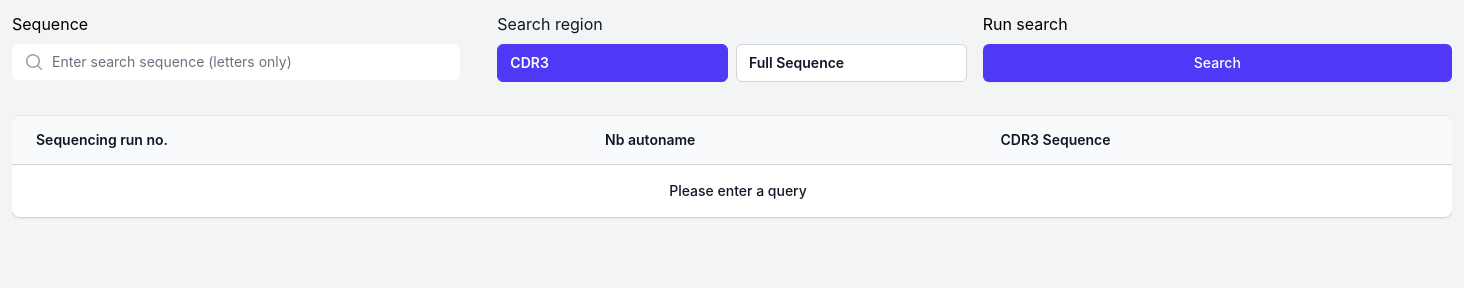
SearchSequencing › renders results table with sequencing run links
Type "AARDVARK" into the search field with placeholder "Enter search sequence (letters only)" at (236,62), box [12, 44, 460, 80]
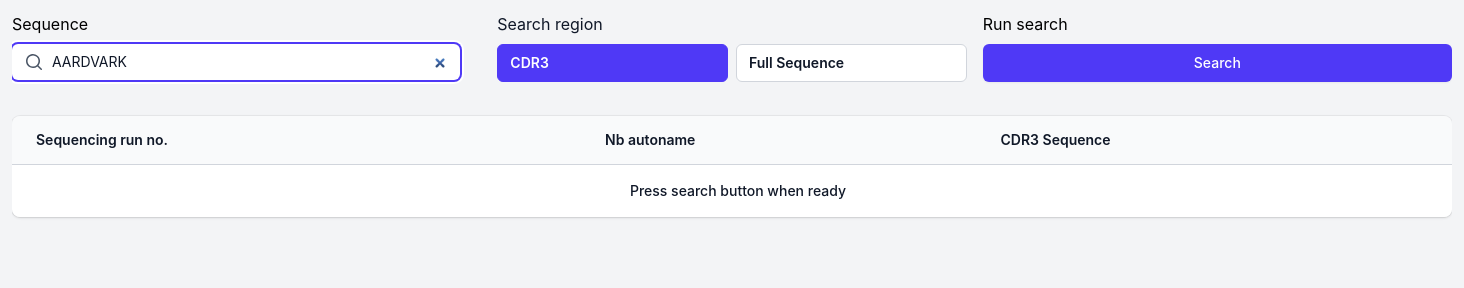
Click the button "Search" at (1217,63), box [983, 44, 1452, 82]
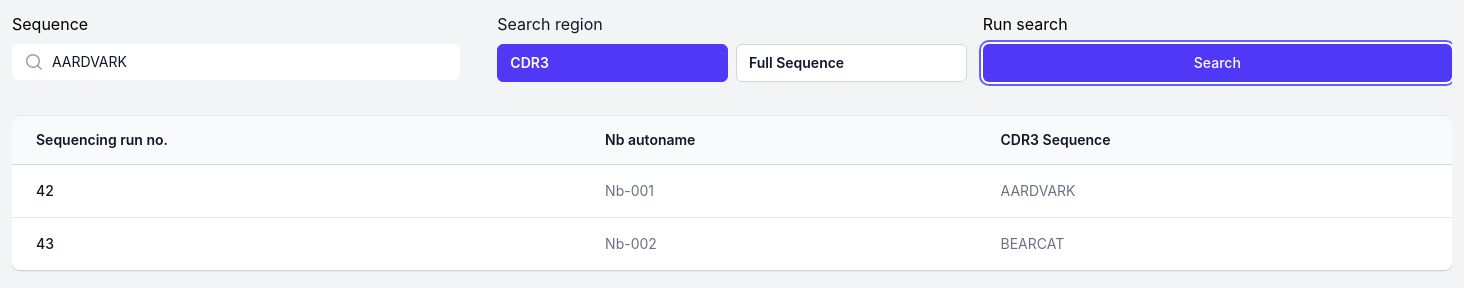
expect the text "Nb-001" is shown: met, box [593, 164, 989, 218]
expect the text "AARDVARK" is shown: met, box [988, 164, 1452, 218]
expect the text "Nb-002" is shown: met, box [593, 218, 989, 270]
